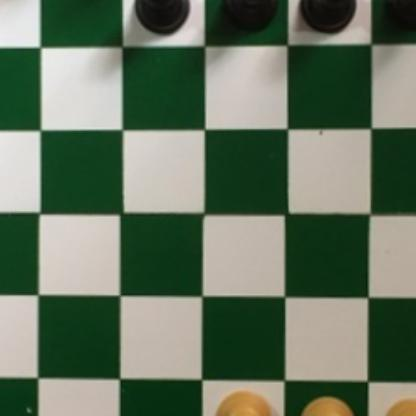black-pawn: (221, 0, 280, 37), (132, 0, 193, 35), (300, 0, 357, 35), (379, 0, 416, 33)
white-pawn: (213, 388, 272, 416), (297, 394, 359, 416), (379, 396, 416, 416)
